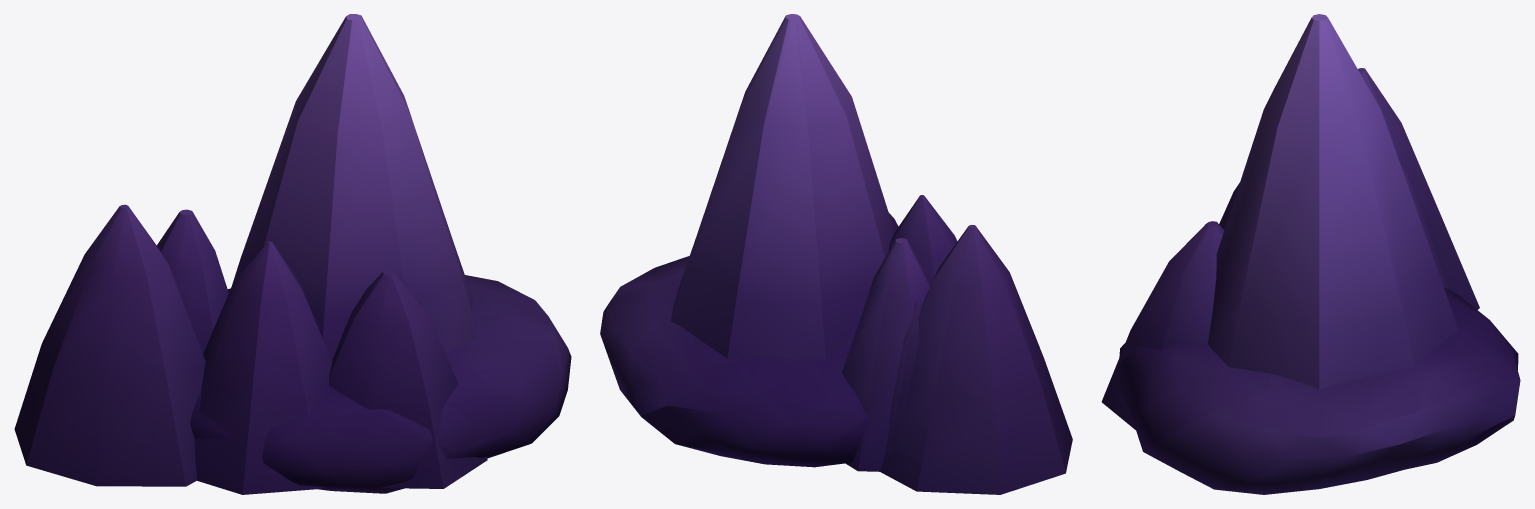
The model's file is hollow_cave_stalagmite_b.glb.
3 views of the same model, side by side, from view 1: azimuth 30°, elevation 25°; view 2: azimuth 150°, elevation 25°; view 3: azimuth 270°, elevation 25° (orthographic). The views are drawn at different scales.
Parts seen in each view (by area): view 1: hollow_cave_stalagmite_b; view 2: hollow_cave_stalagmite_b; view 3: hollow_cave_stalagmite_b.
Part boxes in pixels (left/top/right/bottom): hollow_cave_stalagmite_b: left=14, top=14, right=571, bottom=494; hollow_cave_stalagmite_b: left=600, top=14, right=1072, bottom=494; hollow_cave_stalagmite_b: left=1101, top=14, right=1520, bottom=494.
Size of the model in its own units: 1.99 by 1.55 by 1.45.
